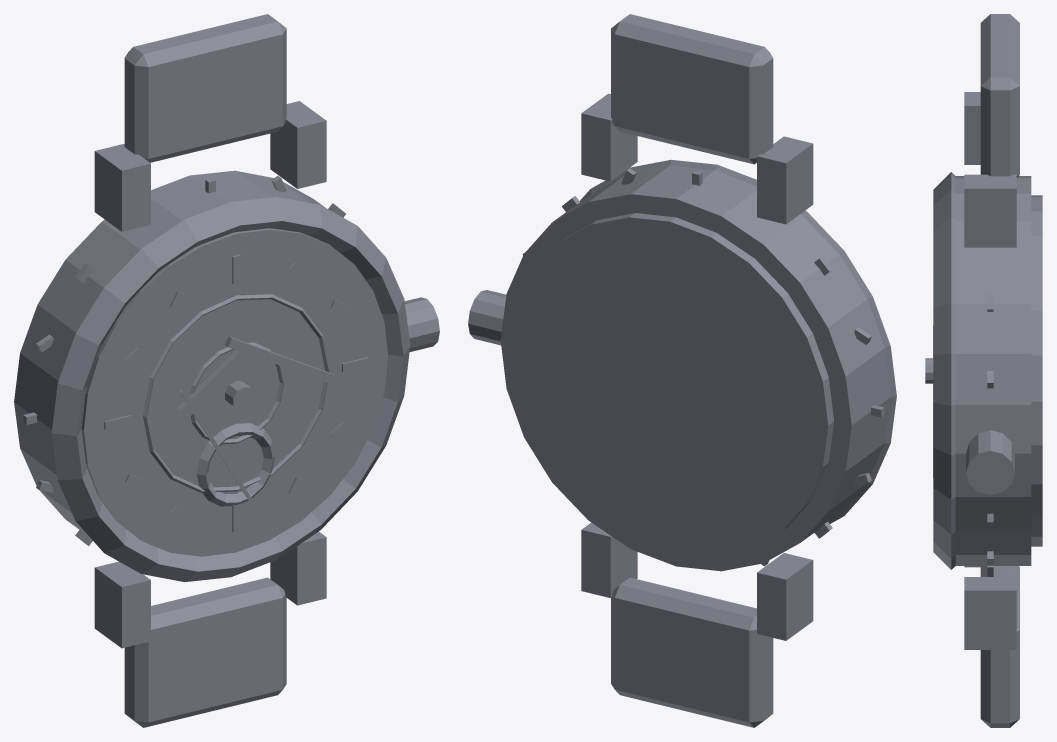
The model's file is rlj_tourbillon.fbx.
The picture shows the model from 3 angles, left to right: view 1: azimuth 30°, elevation 25°; view 2: azimuth 150°, elevation 25°; view 3: azimuth 270°, elevation 25°; orthographic projection. The views are drawn at different scales.
Parts seen in each view (by area): view 1: Esfera__esmalte_blanco, Caja__cuero_correa, Caja__metal_oro_pulido, Caja__metal_oro_cepillado, Esfera__esmalte_negro, Manecillas__esmalte_azul, Esfera__metal_oro_pulido; view 2: Caja__metal_oro_pulido, Caja__cuero_correa, Caja__metal_oro_cepillado; view 3: Caja__metal_oro_pulido, Caja__cuero_correa, Caja__metal_oro_cepillado, Manecillas__esmalte_azul.
Part boxes in pixels (x1,y1,x2,y2): Esfera__esmalte_blanco: (81,228,388,556); Caja__cuero_correa: (124,14,286,727); Caja__metal_oro_pulido: (14,101,439,648); Caja__metal_oro_cepillado: (23,176,410,582); Esfera__esmalte_negro: (104,254,368,532); Manecillas__esmalte_azul: (177,336,334,500); Esfera__metal_oro_pulido: (196,423,275,506); Caja__metal_oro_pulido: (468,93,890,640); Caja__cuero_correa: (611,14,773,727); Caja__metal_oro_cepillado: (522,159,896,566); Caja__metal_oro_pulido: (955,92,1042,649); Caja__cuero_correa: (980,14,1019,727); Caja__metal_oro_cepillado: (933,172,993,576); Manecillas__esmalte_azul: (925,325,933,477).
Size of the model in its own units: 138 by 220 by 36.
